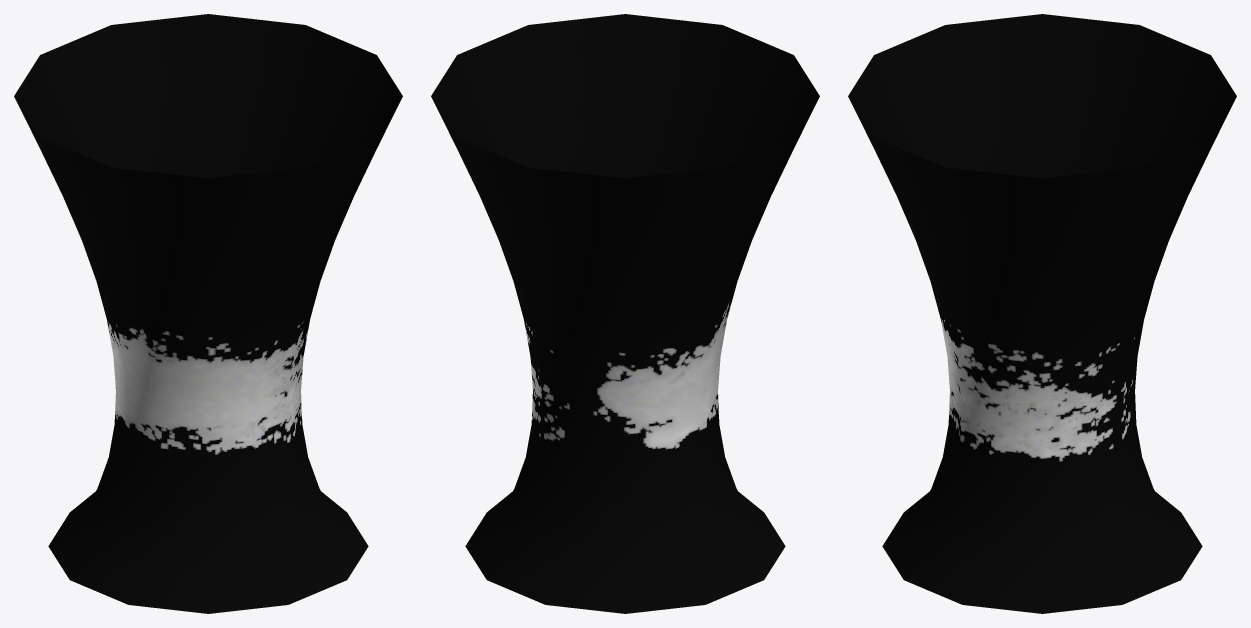
3 renders of one model, left to right at view 1: azimuth 30°, elevation 25°; view 2: azimuth 150°, elevation 25°; view 3: azimuth 270°, elevation 25°, orthographic.
Parts seen in each view (by area): view 1: XF_15; view 2: XF_15; view 3: XF_15.
Boxes of the visible parts, x1=… form: XF_15: x1=14, y1=14, x2=402, y2=613; XF_15: x1=431, y1=14, x2=819, y2=613; XF_15: x1=848, y1=14, x2=1236, y2=613.
Size of the model in its own units: 0.2222 by 0.2837 by 0.2222.
1 material, 1 textured.
